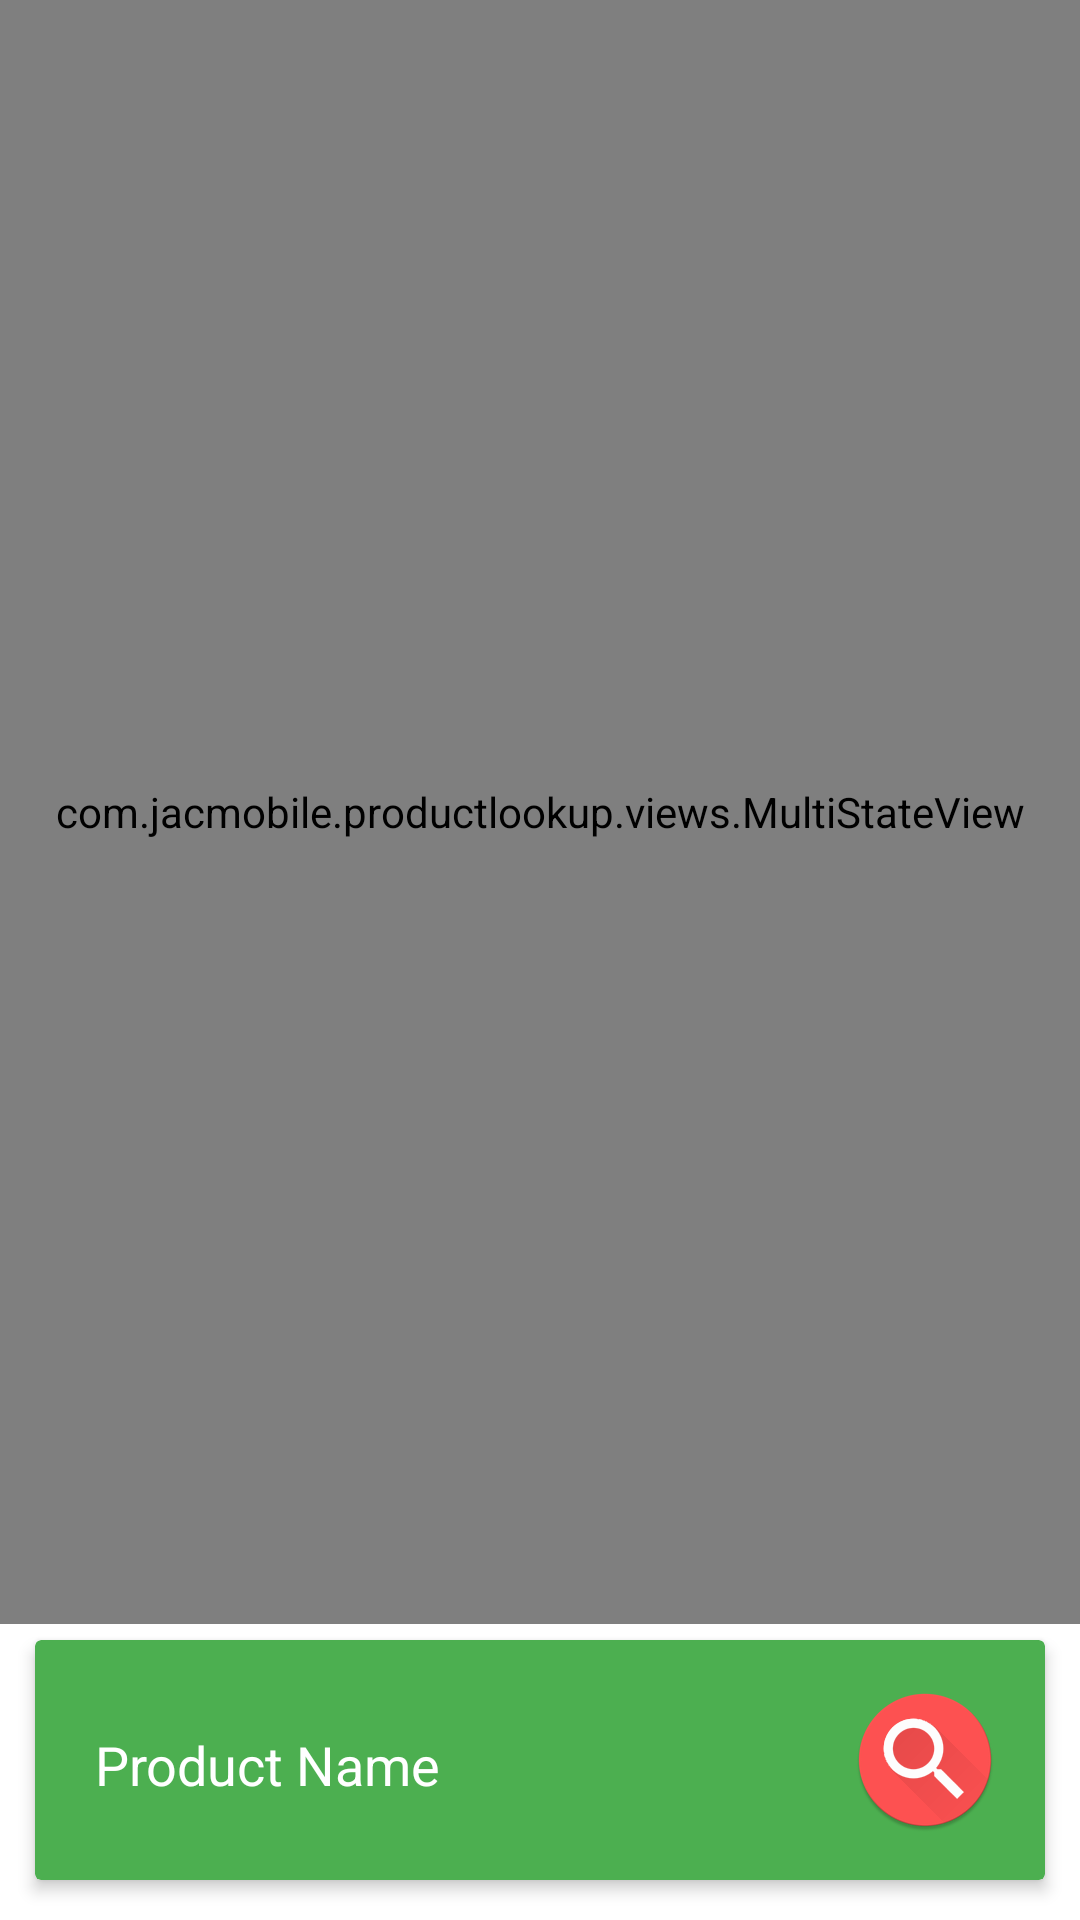

Screen size 1080px x 1920px. Icon name, then its box in pixels as box=[x1, y1, x2, y2]:
search: box=[859, 1693, 992, 1829]
